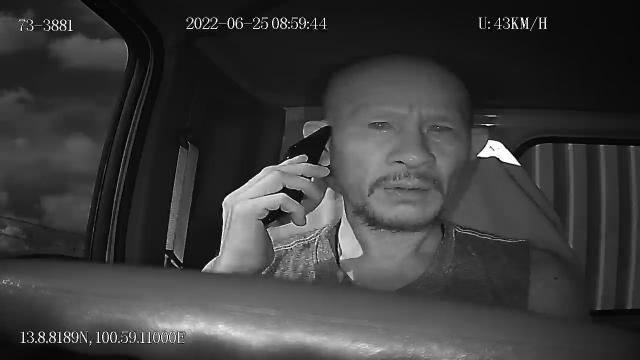PhoneUse: (258, 122, 334, 231)
SafeDriving: (416, 113, 462, 143), (359, 109, 403, 138)
